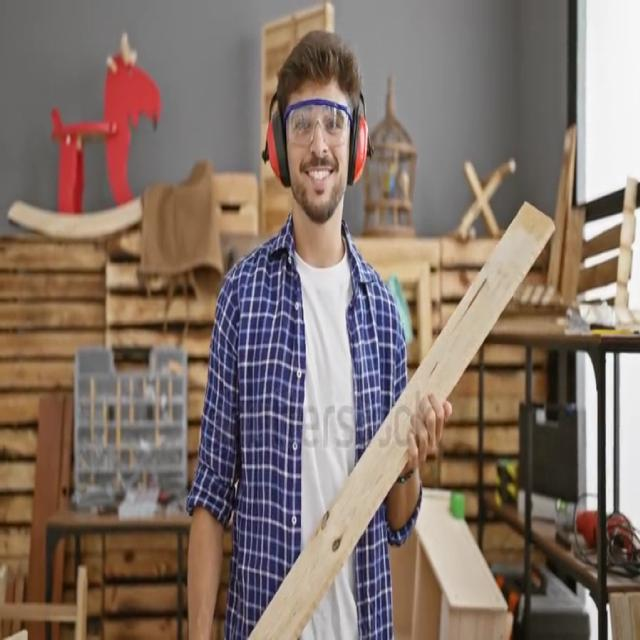Ear-Protection: (259, 95, 293, 188), (350, 102, 373, 188)
Glasses: (282, 99, 354, 150)
